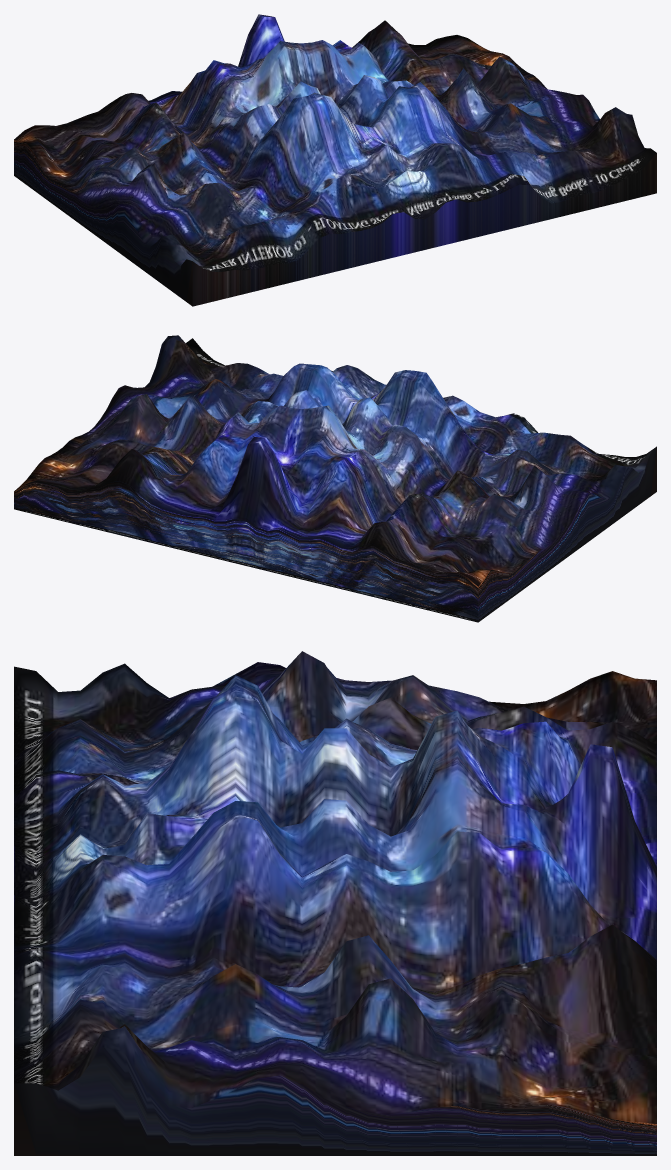
File: TOWER_INT_01_Floating_Spire.glb
3 renders of one model, top to bottom at view 1: azimuth 30°, elevation 25°; view 2: azimuth 150°, elevation 25°; view 3: azimuth 270°, elevation 25°, orthographic. The views are drawn at different scales.
Visible parts, largest first — view 1: TOWER_INT_01_Floating_Spire; view 2: TOWER_INT_01_Floating_Spire; view 3: TOWER_INT_01_Floating_Spire.
Part boxes in pixels (left/top/right/bottom): TOWER_INT_01_Floating_Spire: left=14, top=14, right=656, bottom=306; TOWER_INT_01_Floating_Spire: left=14, top=335, right=656, bottom=622; TOWER_INT_01_Floating_Spire: left=14, top=651, right=656, bottom=1155.
Bounding box in the file's own units: 2 × 0.51 × 1.33.
Materials: 1 (1 with a texture image).
